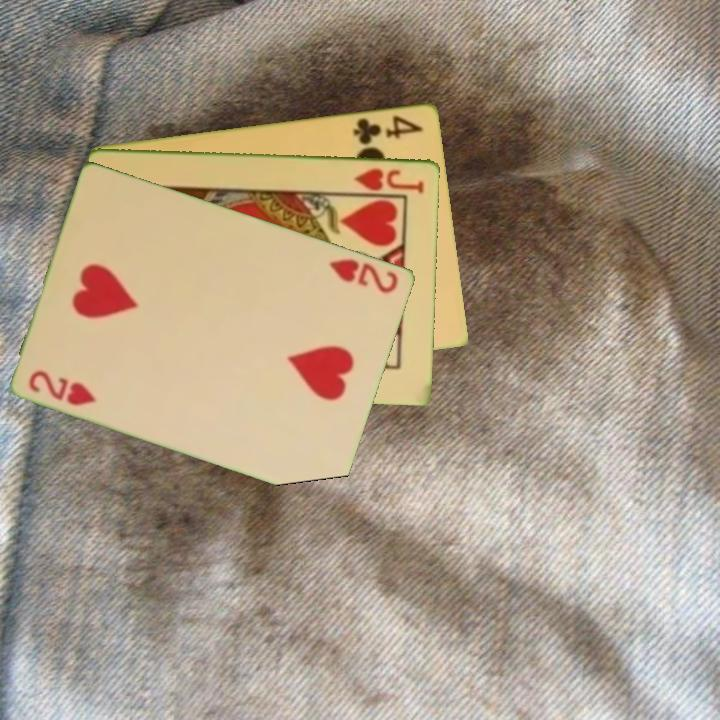2h: (26, 366, 100, 409), (326, 255, 402, 296)
4c: (350, 111, 427, 147)
Jh: (351, 164, 427, 196)
